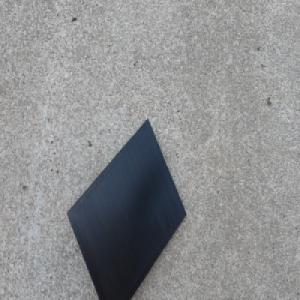PlasticPart: (66, 116, 187, 300)
